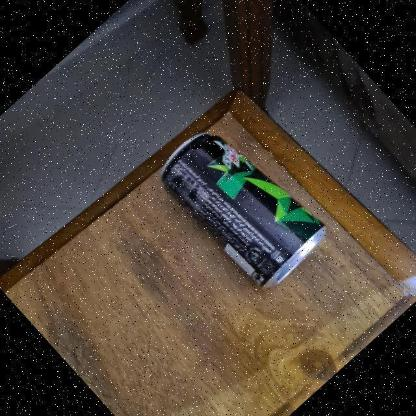Can: (164, 134, 326, 289)
